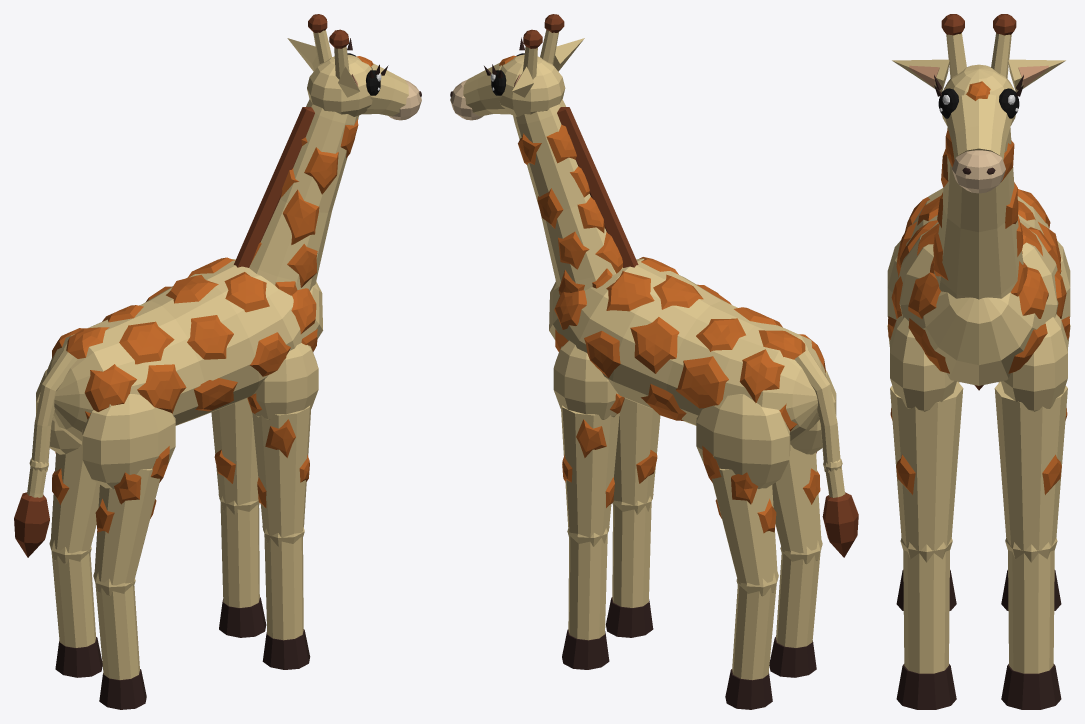
Rendered from giraffe.glb.
The picture shows the model from 3 angles, left to right: view 1: azimuth 30°, elevation 25°; view 2: azimuth 150°, elevation 25°; view 3: azimuth 270°, elevation 25°; orthographic projection. The views are drawn at different scales.
Parts seen in each view (by area): view 1: body, leg_br, leg_fr, neck, leg_bl, leg_fl, head, tail_2, tail; view 2: body, leg_bl, leg_fl, neck, leg_br, leg_fr, head, tail_2, tail; view 3: leg_fl, leg_fr, body, head, neck, leg_br, leg_bl.
Part boxes in pixels (<box>): body: <box>45,257,323,444</box>; leg_br: <box>82,394,175,709</box>; leg_fr: <box>247,343,318,669</box>; neck: <box>234,99,358,295</box>; leg_bl: <box>36,369,102,677</box>; leg_fl: <box>211,398,266,637</box>; head: <box>287,14,421,120</box>; tail_2: <box>14,458,49,557</box>; tail: <box>31,349,77,472</box>; body: <box>549,257,826,444</box>; leg_bl: <box>696,394,790,709</box>; leg_fl: <box>553,340,624,669</box>; neck: <box>513,99,638,294</box>; leg_br: <box>769,370,836,677</box>; leg_fr: <box>606,398,660,637</box>; head: <box>450,14,584,120</box>; tail_2: <box>822,458,858,557</box>; tail: <box>794,349,840,472</box>; leg_fl: <box>994,314,1067,709</box>; leg_fr: <box>890,316,963,709</box>; body: <box>891,188,1066,385</box>; head: <box>892,14,1065,193</box>; neck: <box>930,127,1027,299</box>; leg_br: <box>887,240,959,610</box>; leg_bl: <box>998,240,1070,610</box>.
Bounding box in the file's own units: 2.12 × 3.04 × 0.7.
